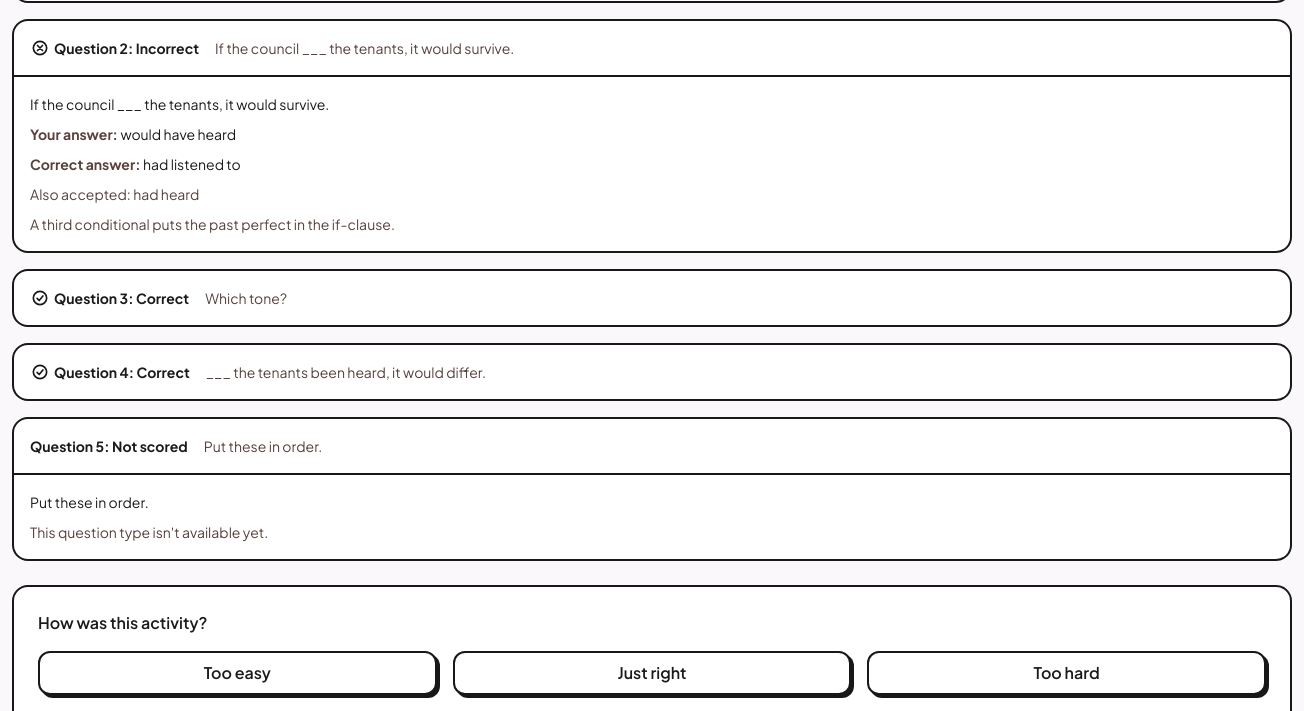
Test: RatingPrompt › a_failed_rating_offers_retry_without_blocking
Click the button "Too hard": {"x": 1067, "y": 673} [867, 651, 1266, 695]
(page scrolled)
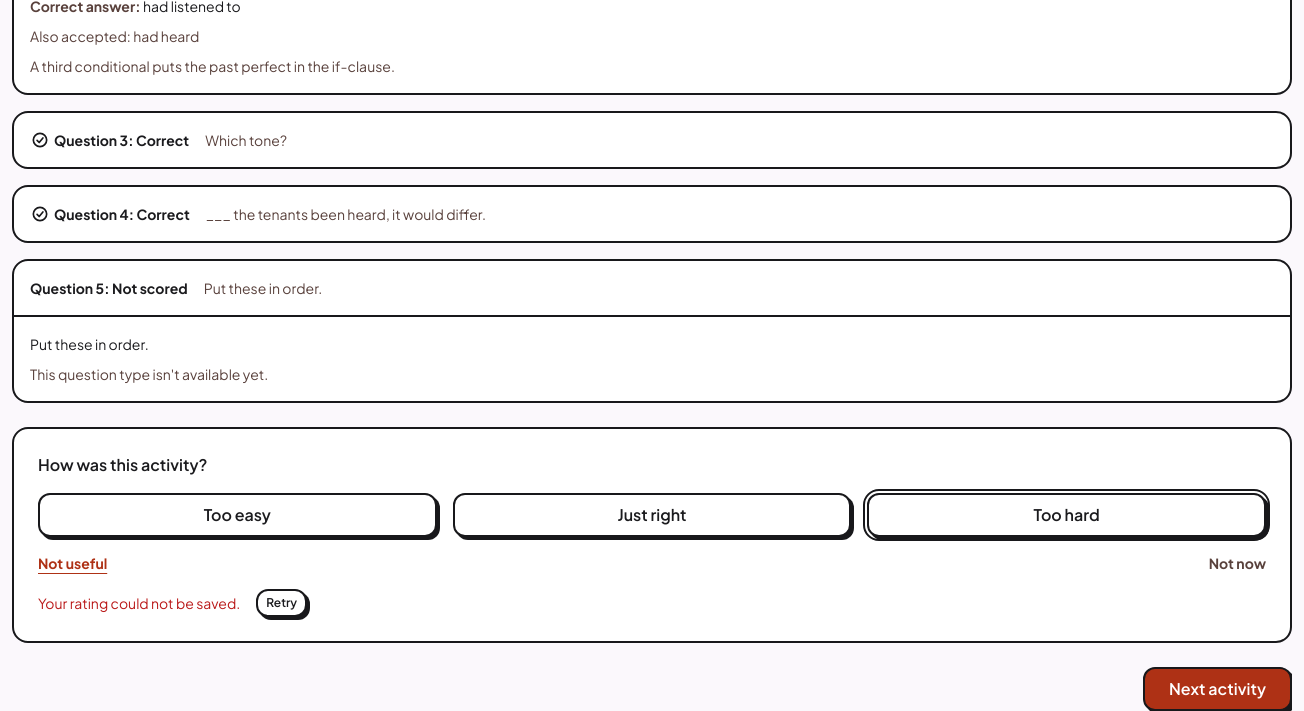
Check: the link "Next activity" is shown, box [1143, 667, 1292, 710]
Check: the message shows "Your rating could not be saved.", box [38, 594, 240, 612]
Click the button "Retry": {"x": 282, "y": 603} [256, 589, 307, 617]
(page scrolled)
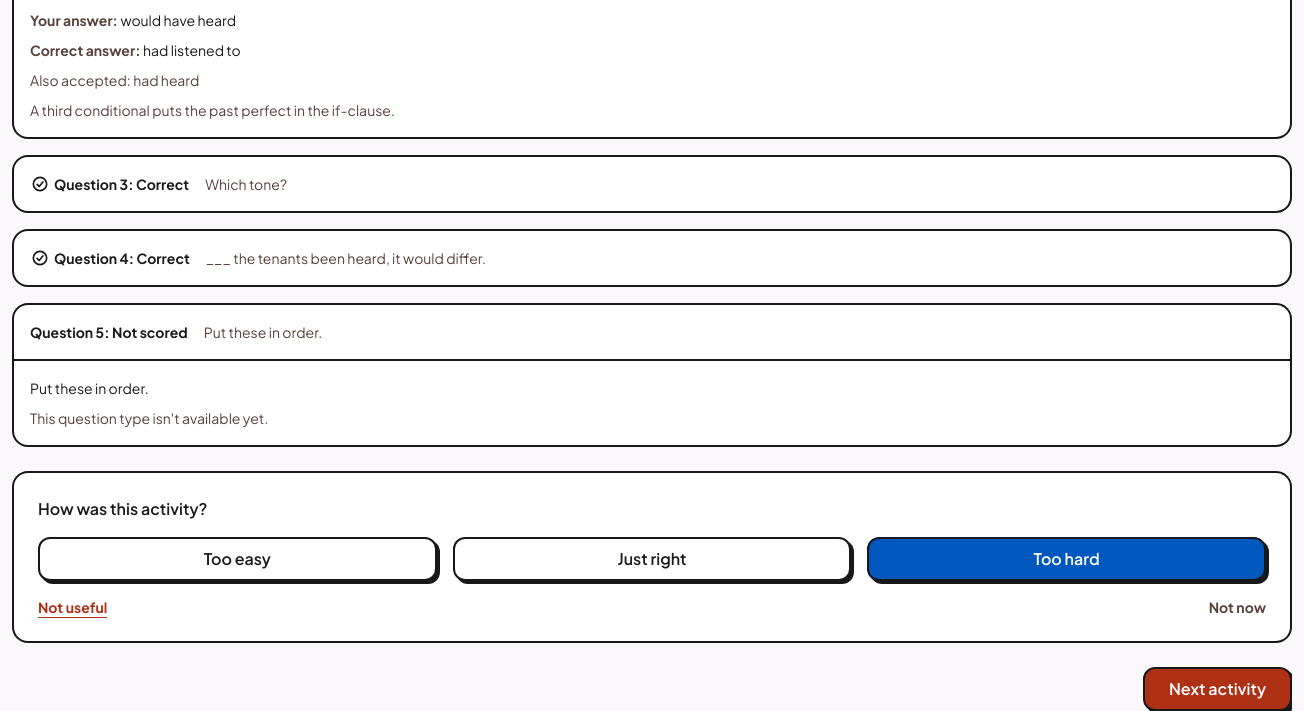
Check: the message "Your rating could not be saved. Retry" is gone
